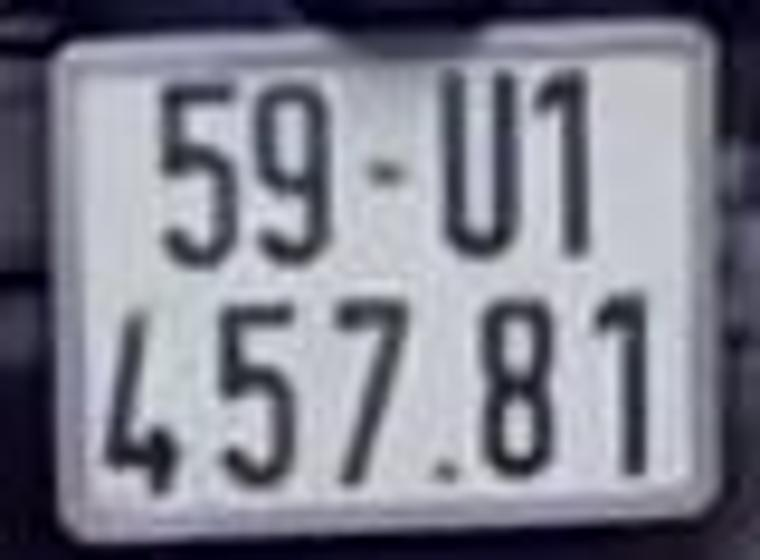-: (366, 158, 406, 192)
.: (432, 456, 461, 487)
1: (532, 65, 598, 264), (593, 286, 652, 479)
4: (100, 314, 190, 499)
5: (152, 82, 246, 270), (213, 297, 302, 488)
7: (330, 297, 409, 491)
8: (478, 296, 557, 485)
9: (248, 78, 331, 270)
U: (433, 67, 525, 264)
